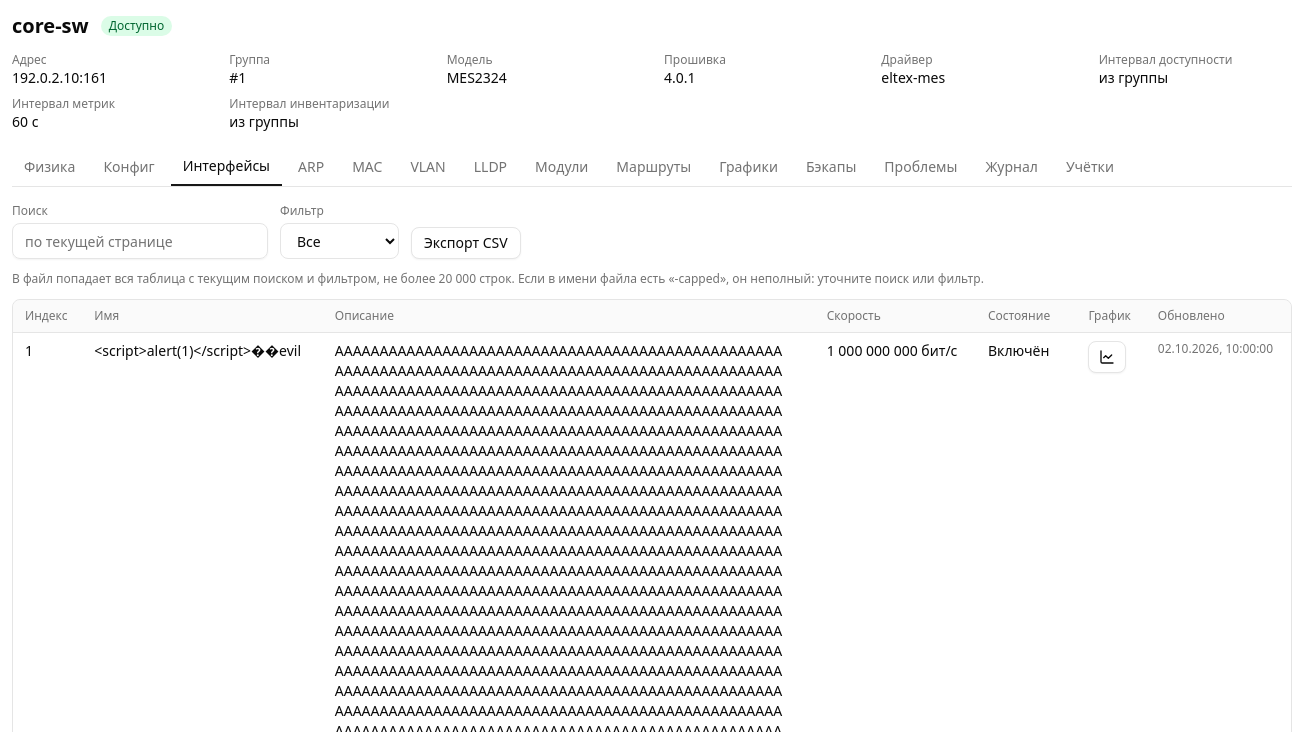
Test case: DeviceCard › profiles tab shows status and date for a viewer, never content
The image size is (1292, 732).
Click the tab "Учётки".
click(1090, 167)  # box [1054, 148, 1126, 186]
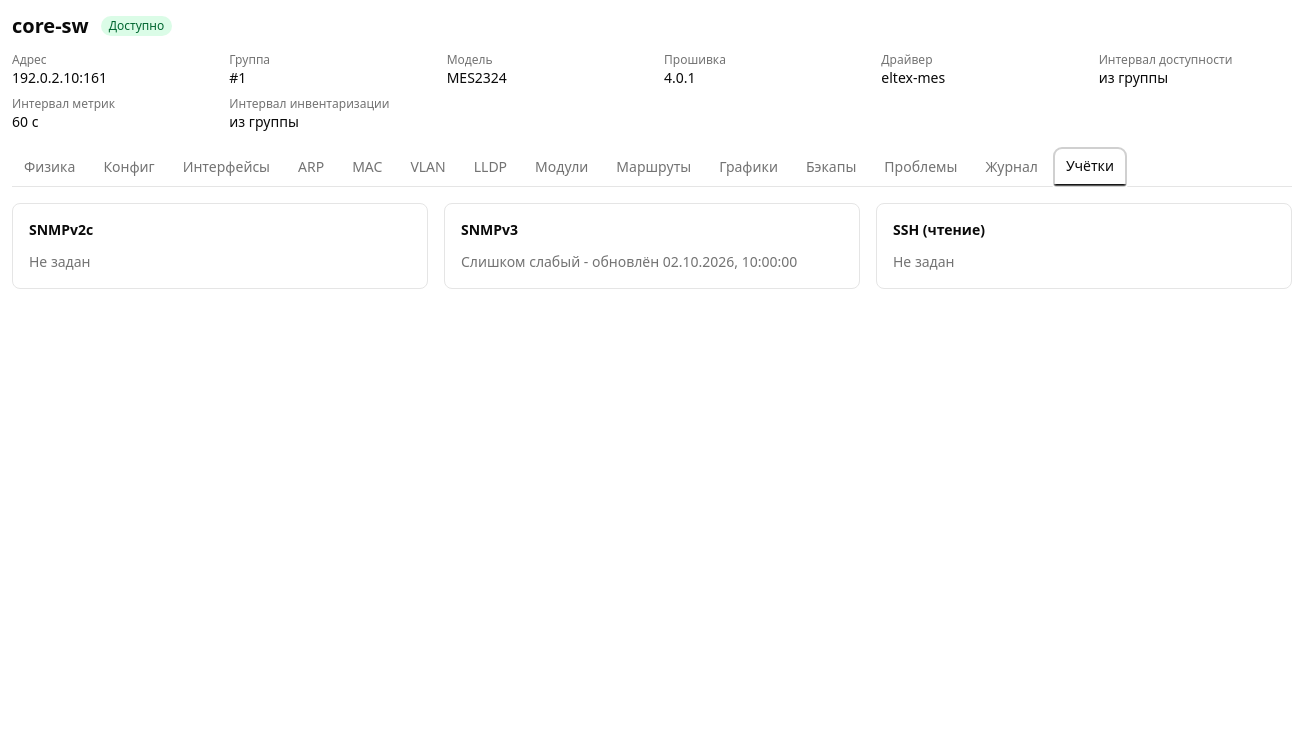
Expected: the text "Слишком слабый - обновлён 02.10.2026, 10:00:00" is shown, [461, 252, 843, 272]
Expected: the text "Не задан" is shown 2 times, [29, 252, 90, 271]; [893, 252, 954, 271]
Expected: the search field is gone
